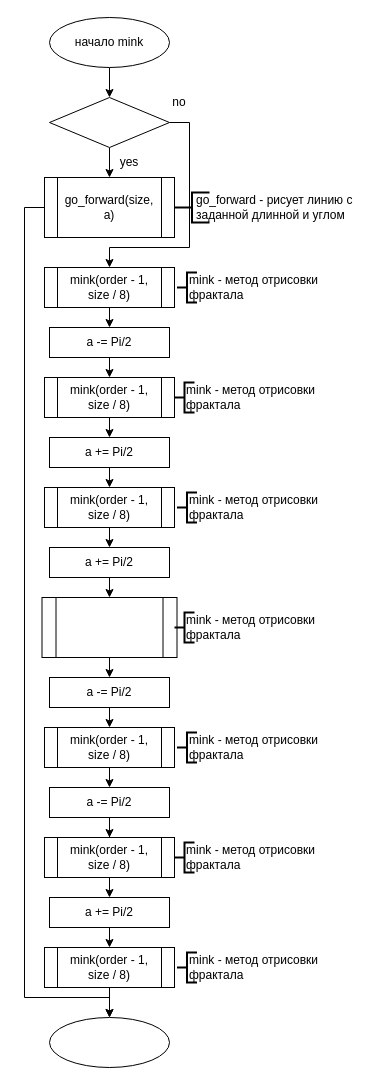
Some shapes in this 377 by 1085 pixel diagram are drawn without their labels. Here are the shapes that lost their labels. From the top down, the centre of each, then its label:
At [109,122]: "order = 0".
At [109,627]: "mink(order - 1, size / 8) mink(order - 1, size / 8)".
At [109,1042]: "конец mink".
